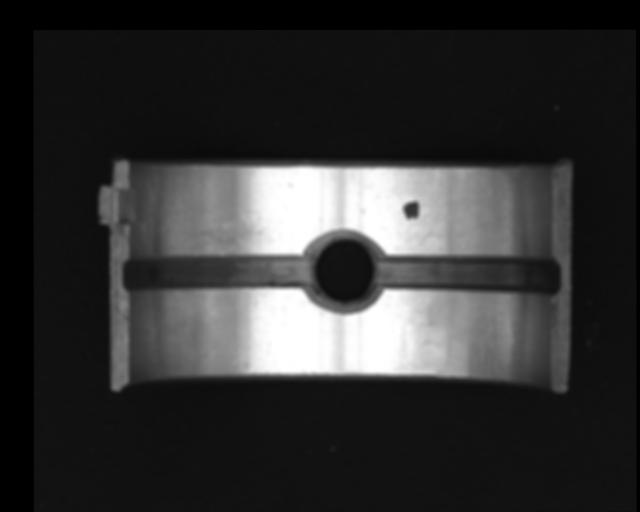blot: (402, 200, 419, 221)
gap: (121, 254, 315, 291), (379, 254, 561, 292)
hole: (307, 231, 384, 310)
nick: (256, 294, 271, 354)
scratch: (165, 212, 270, 254)
